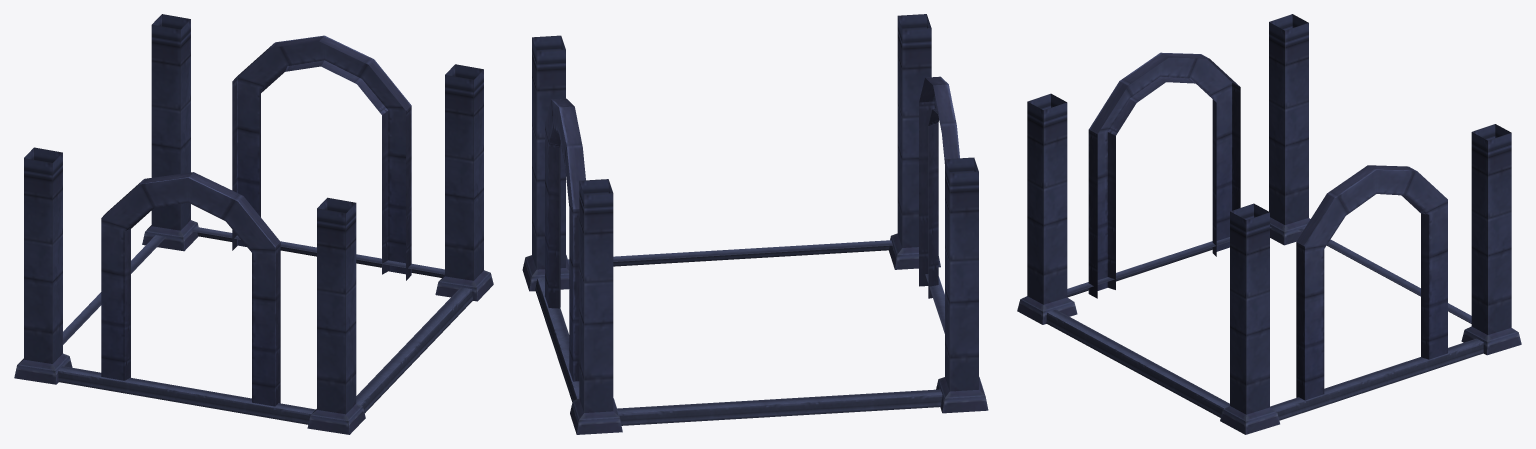
Rendered from Area09_9.fbx.
3 renders of one model, left to right at view 1: azimuth 30°, elevation 25°; view 2: azimuth 150°, elevation 25°; view 3: azimuth 270°, elevation 25°, orthographic. The views are drawn at different scales.
Visible parts, largest first — view 1: Area09_9; view 2: Area09_9; view 3: Area09_9.
Boxes of the visible parts, x1,y1,x2,y2 form: Area09_9: (14,14,493,434); Area09_9: (522,14,988,434); Area09_9: (1017,14,1521,434).
Size of the model in its own units: 1011 by 478 by 1004.
